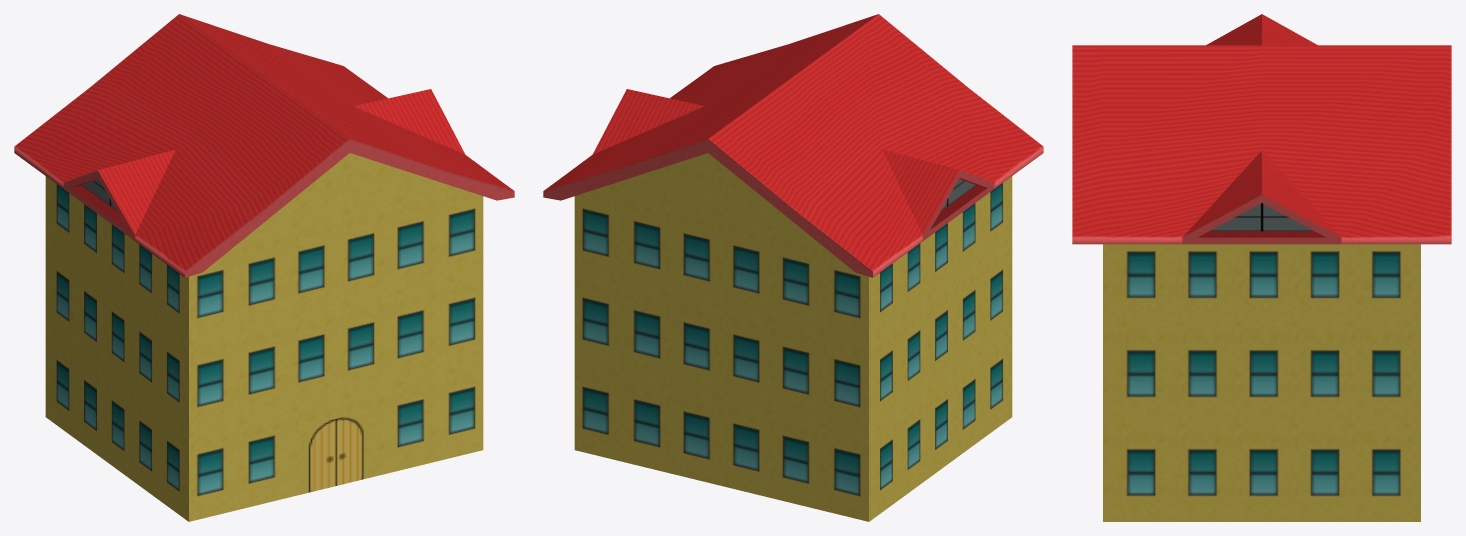
File: house_3.fbx
3 renders of one model, left to right at view 1: azimuth 30°, elevation 25°; view 2: azimuth 150°, elevation 25°; view 3: azimuth 270°, elevation 25°, orthographic. The views are drawn at different scales.
Visible parts, largest first — view 1: pCube270; view 2: pCube270; view 3: pCube270.
Boxes of the visible parts, x1,y1,x2,y2 form: pCube270: (14,14,514,521); pCube270: (543,14,1043,521); pCube270: (1072,14,1451,521).
Bounding box in the file's own units: 69.32 × 71.01 × 61.49.
Materials: 1 (1 with a texture image).
